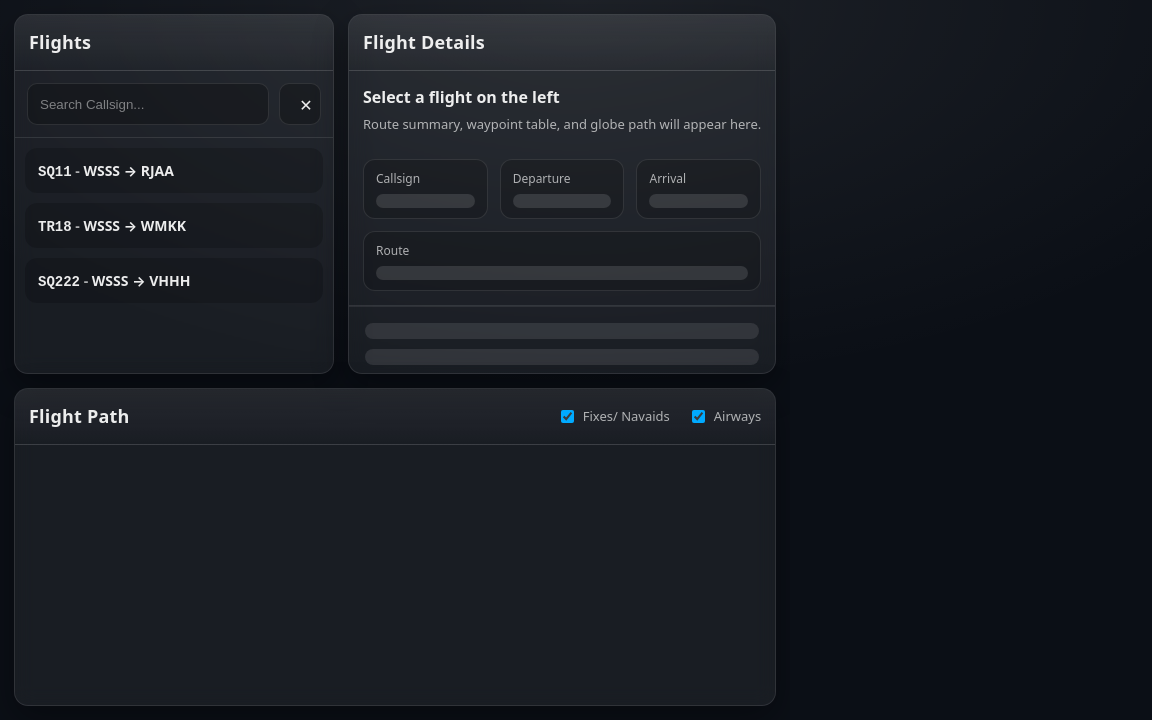
Scenario: Flightplan UI (App) › 4) flight details display properly after selecting a flight
Click the list item "SQ11 - WSSS → RJAA" at (174, 170), box [25,148,323,193]
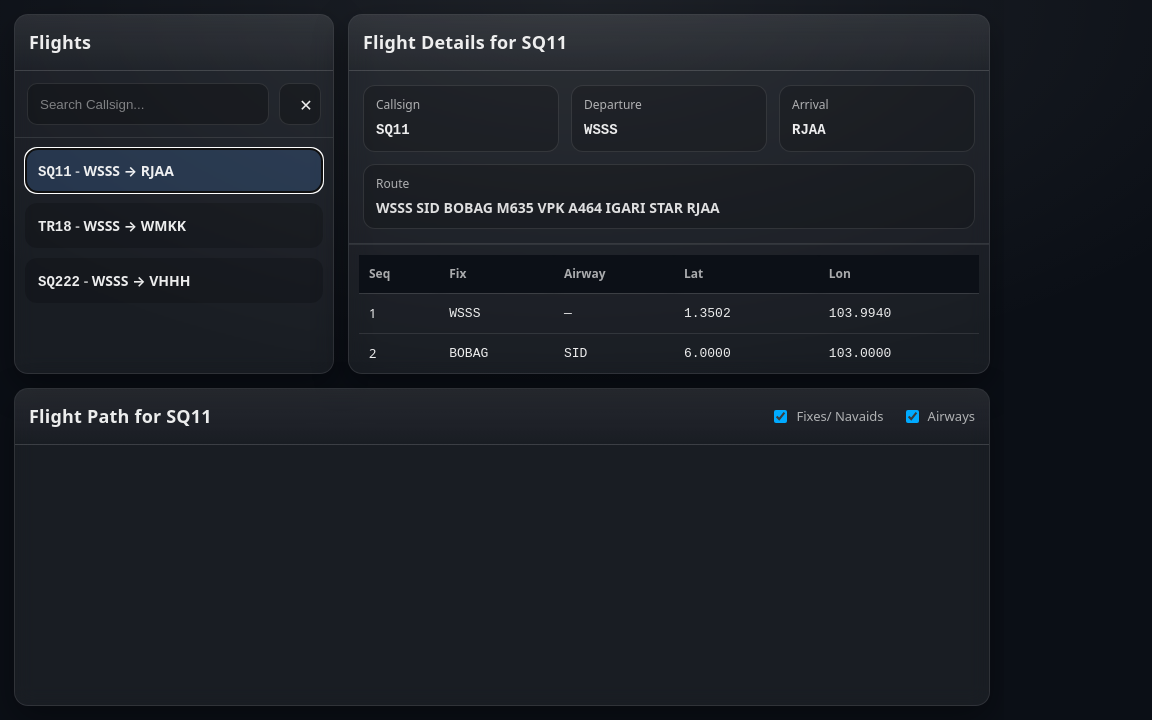
Result: the heading "Flight Details for SQ11" is shown at [363,30,567,54]
Result: the text "WSSS SID BOBAG M635 VPK A464 IGARI STAR RJAA" is shown at [376,198,720,217]
Result: the text "BOBAG" is shown at [439,334,554,373]
